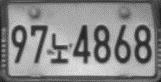4: (71, 23, 91, 64)
6: (113, 23, 131, 63)
7: (29, 24, 48, 63)
8: (92, 23, 111, 64), (133, 24, 152, 64)
9: (11, 24, 27, 63)
노: (49, 32, 69, 63)
